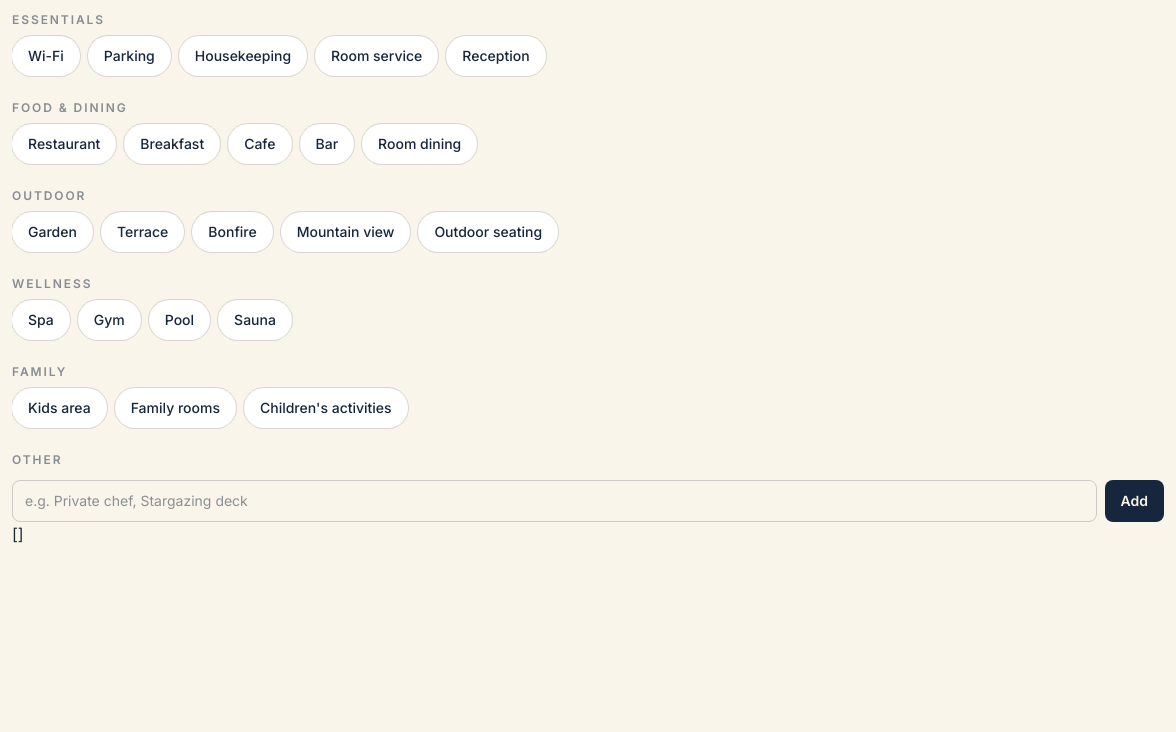
Test case: AmenityPicker › adds a custom amenity under Other without requiring an icon
Type "Private chef" into the field named "custom amenity".
click(554, 501); type("Private chef")  # box [12, 480, 1096, 522]
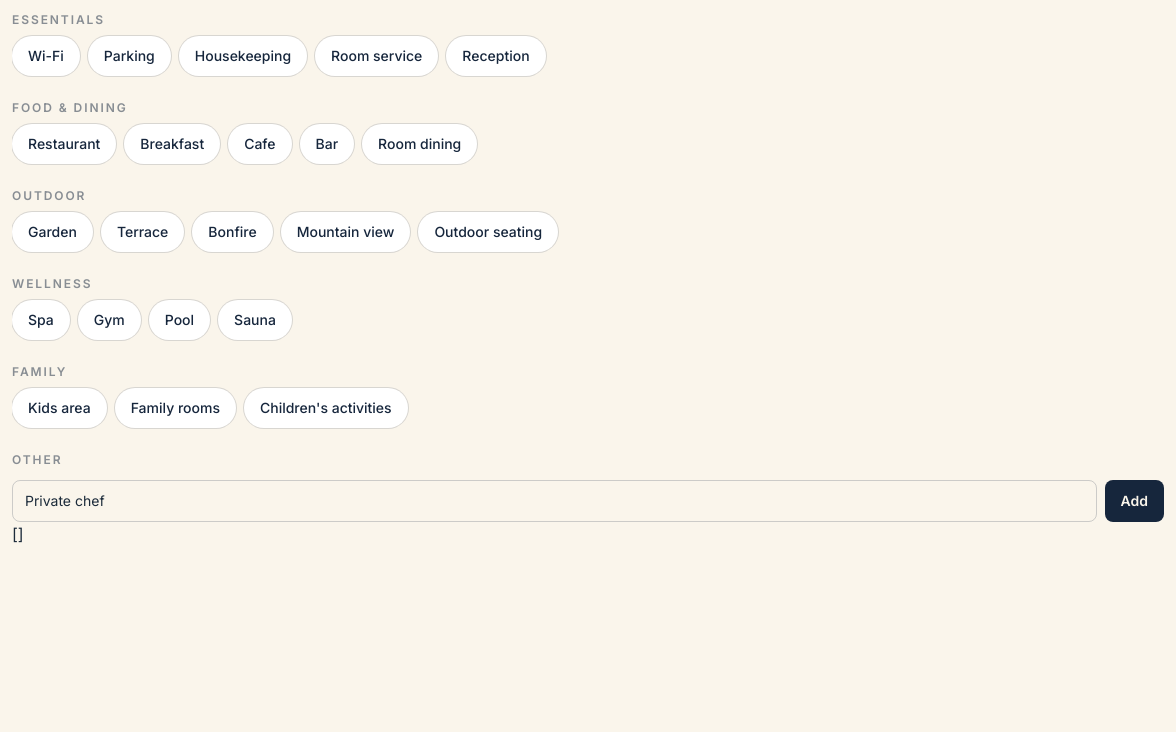
Click the button "Add".
click(1134, 501)  # box [1104, 480, 1164, 522]
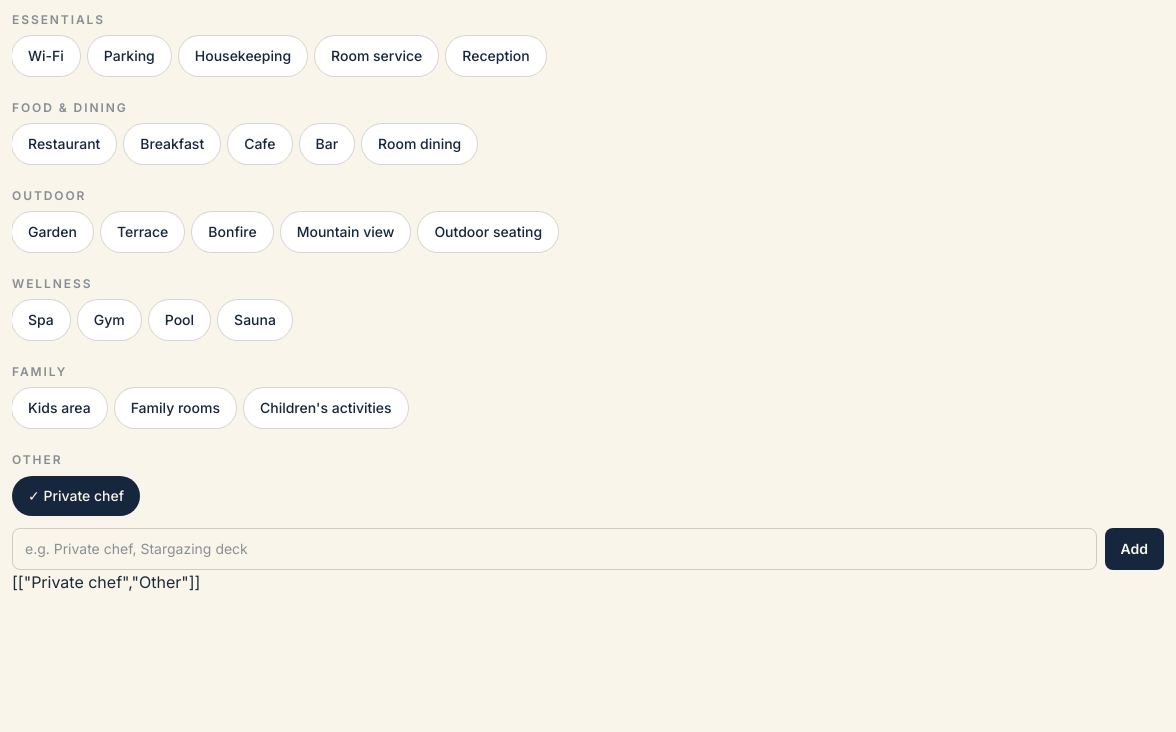
Expected: the button "✓ Private chef" is shown, [12, 476, 140, 516]
